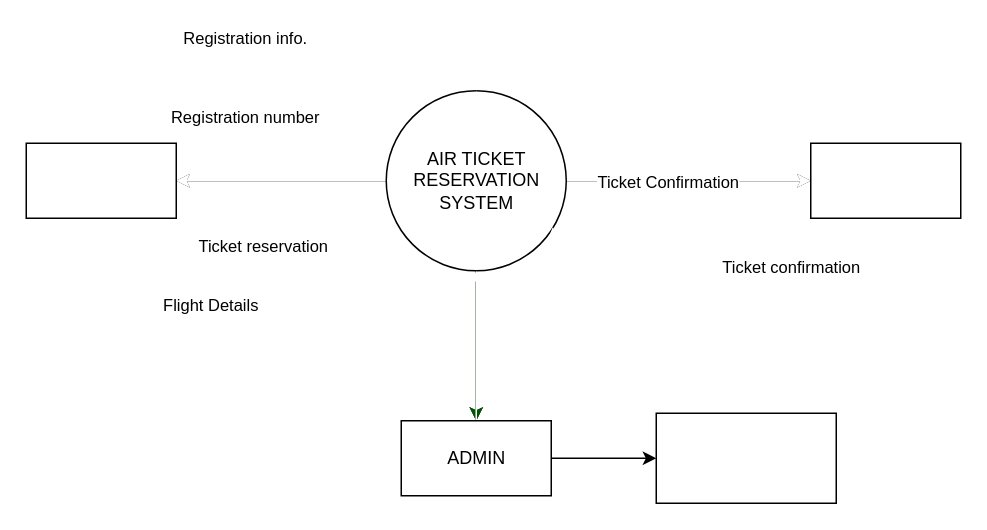
The diagram is 987 pixels wide and 530 high, and some of its shapes have lost their labels. Here are the shapes that lost their labels. From the top down, the box of each, then its label:
(25, 142, 176, 218): USER
(809, 142, 961, 218): Airlines
